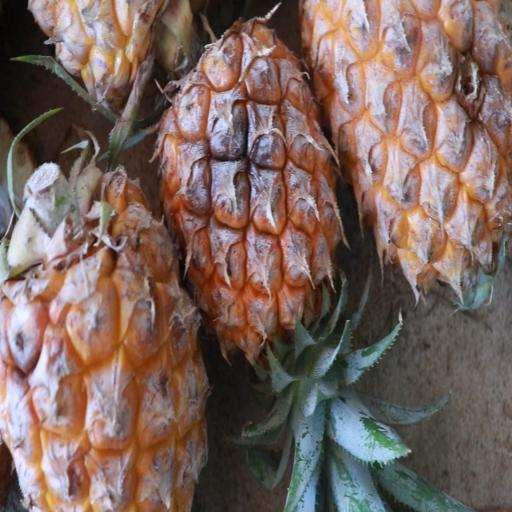Pineapple - v8 v1: (154, 12, 342, 426), (0, 157, 217, 512), (298, 0, 512, 298)
